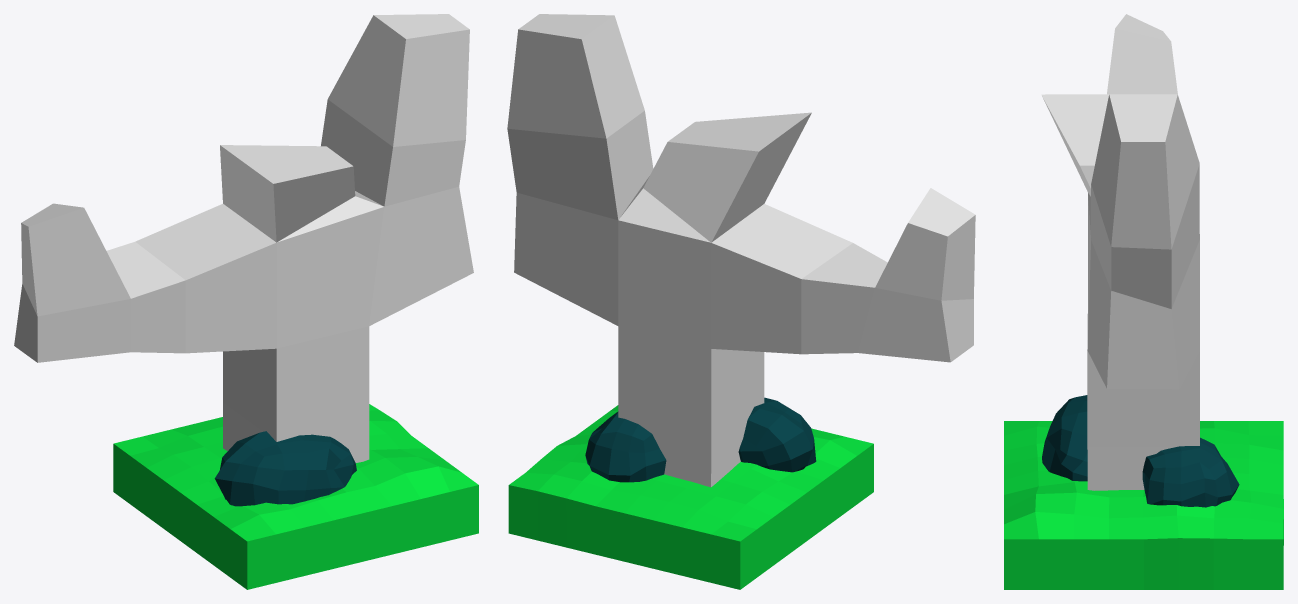
File: Islands3.fbx
3 views of the same model, side by side, from view 1: azimuth 30°, elevation 25°; view 2: azimuth 150°, elevation 25°; view 3: azimuth 270°, elevation 25° (orthographic). The views are drawn at different scales.
Visible parts, largest first — view 1: Cube.003, Cube, Cube.001; view 2: Cube.003, Cube, Cube.001, Cube.002; view 3: Cube.003, Cube, Cube.002, Cube.001.
Part boxes in pixels (x1,y1,x2,y2): Cube.003: (14, 14, 473, 462); Cube: (113, 404, 478, 589); Cube.001: (214, 431, 356, 506); Cube.003: (507, 14, 975, 487); Cube: (508, 405, 873, 589); Cube.001: (738, 397, 816, 472); Cube.002: (585, 411, 666, 482); Cube.003: (1041, 14, 1199, 490); Cube: (1004, 421, 1283, 589); Cube.002: (1142, 437, 1239, 507); Cube.001: (1042, 395, 1087, 481).
Size of the model in its own units: 965 by 955 by 500.
